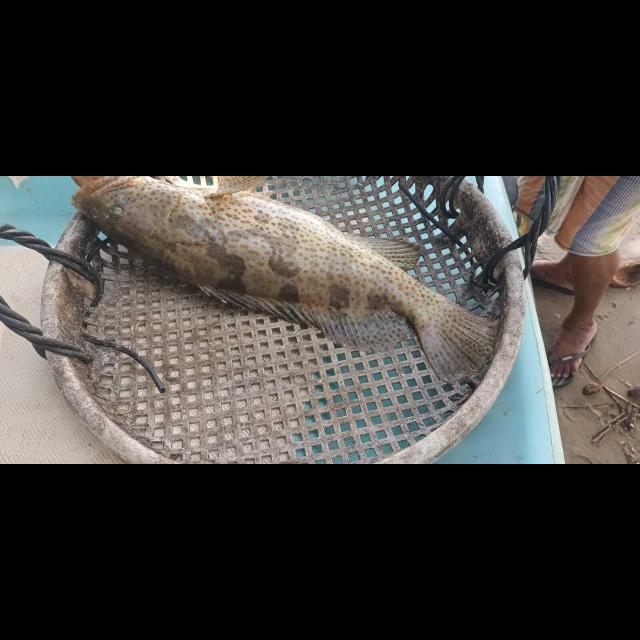Groupers: (70, 176, 502, 378)
